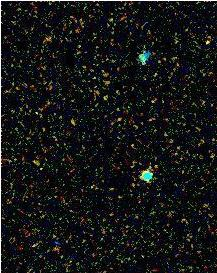star: (193, 23, 217, 53)
